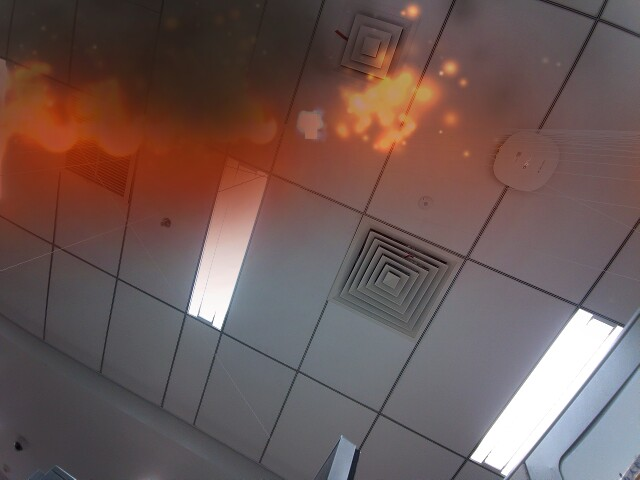fire: (97, 117, 147, 157), (37, 117, 83, 154), (246, 114, 279, 148)
